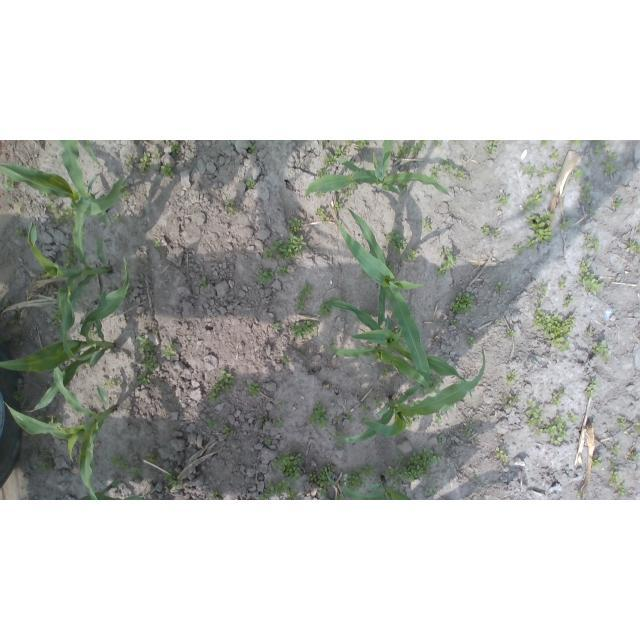Maize: (0, 255, 130, 413), (337, 207, 432, 386), (3, 366, 117, 500), (333, 346, 487, 445), (329, 297, 473, 402), (27, 199, 113, 363), (1, 140, 124, 224), (305, 140, 453, 200), (326, 469, 414, 500), (73, 476, 144, 500), (84, 140, 97, 162)
Weeds: (385, 448, 444, 487), (533, 308, 577, 353), (136, 337, 161, 386), (526, 211, 556, 250), (264, 234, 307, 260), (206, 368, 234, 405), (341, 464, 375, 493), (271, 450, 301, 482), (258, 477, 298, 500), (579, 260, 605, 293), (545, 413, 569, 447), (47, 199, 72, 227), (526, 400, 545, 436), (317, 463, 335, 498), (435, 248, 457, 276), (307, 401, 328, 430), (451, 292, 476, 315), (395, 140, 428, 157), (385, 228, 407, 253), (521, 190, 543, 215), (592, 338, 613, 362), (291, 320, 318, 338), (61, 240, 77, 269), (296, 285, 312, 312), (422, 376, 445, 394), (164, 468, 180, 492), (160, 340, 177, 360), (36, 455, 54, 473), (584, 233, 600, 253), (584, 379, 601, 397), (244, 379, 261, 396), (257, 269, 275, 285), (286, 217, 304, 233), (539, 164, 561, 177), (111, 455, 131, 469), (117, 181, 131, 201), (140, 152, 153, 173), (316, 301, 332, 318), (338, 182, 356, 197), (403, 414, 422, 428), (504, 393, 520, 409), (551, 390, 566, 407), (2, 177, 18, 192), (480, 225, 500, 237), (520, 163, 537, 176), (464, 420, 477, 437), (602, 162, 616, 177), (160, 163, 174, 177), (48, 414, 63, 427), (146, 452, 161, 465), (315, 208, 328, 223), (496, 447, 509, 462), (486, 140, 498, 156), (608, 470, 620, 486), (626, 241, 640, 254), (170, 140, 181, 156), (131, 466, 144, 479), (323, 155, 337, 167), (506, 370, 517, 385), (52, 308, 62, 324), (616, 416, 628, 429), (406, 248, 418, 261), (454, 168, 466, 181), (442, 160, 454, 173), (424, 484, 437, 496), (225, 198, 236, 212), (466, 334, 477, 348), (539, 184, 556, 193), (75, 363, 90, 373), (277, 264, 289, 276), (573, 168, 584, 181), (586, 324, 596, 338), (40, 192, 57, 200), (496, 282, 508, 293), (559, 219, 571, 230), (513, 244, 525, 255), (569, 411, 580, 423), (564, 295, 574, 308), (608, 152, 621, 162), (433, 411, 443, 424), (199, 276, 207, 292), (246, 177, 257, 188), (317, 168, 328, 179), (333, 201, 344, 212), (86, 325, 94, 340), (497, 195, 509, 205), (580, 183, 592, 193), (13, 390, 23, 402), (432, 166, 441, 179), (376, 394, 385, 407), (272, 420, 285, 429), (385, 259, 393, 273), (571, 140, 585, 148), (618, 483, 626, 497), (592, 457, 602, 468), (281, 355, 292, 365), (380, 369, 392, 378), (615, 197, 624, 209), (248, 142, 257, 154), (208, 416, 217, 428), (324, 340, 336, 349), (442, 404, 455, 412), (32, 444, 40, 457), (224, 425, 233, 436), (423, 220, 432, 231), (335, 146, 344, 157), (612, 443, 621, 454), (10, 316, 21, 325), (540, 284, 548, 296), (356, 140, 368, 148), (125, 156, 135, 165), (15, 229, 25, 238), (107, 380, 117, 389), (552, 150, 560, 161), (437, 433, 445, 444), (507, 330, 516, 339), (152, 239, 161, 248), (362, 404, 371, 413), (593, 148, 603, 156), (0, 298, 10, 306), (125, 287, 132, 298), (152, 149, 161, 157), (112, 212, 120, 221), (16, 204, 24, 213), (399, 183, 407, 192), (582, 193, 590, 202), (560, 278, 567, 288), (601, 140, 609, 148), (272, 322, 280, 330), (630, 452, 638, 460), (309, 472, 317, 480), (589, 208, 596, 217), (541, 141, 550, 148), (337, 431, 346, 438), (336, 444, 345, 451), (433, 140, 443, 146), (211, 494, 221, 500), (362, 271, 370, 278), (152, 327, 159, 335), (608, 459, 616, 466), (346, 412, 352, 421), (636, 422, 640, 435), (315, 192, 325, 197), (537, 297, 544, 304), (575, 490, 581, 498), (332, 295, 340, 301), (472, 473, 478, 480), (450, 319, 456, 326), (265, 439, 272, 445), (360, 416, 368, 421), (280, 400, 284, 408), (332, 354, 338, 359), (593, 141, 602, 144), (39, 416, 44, 421), (588, 163, 593, 168), (347, 140, 353, 144)
